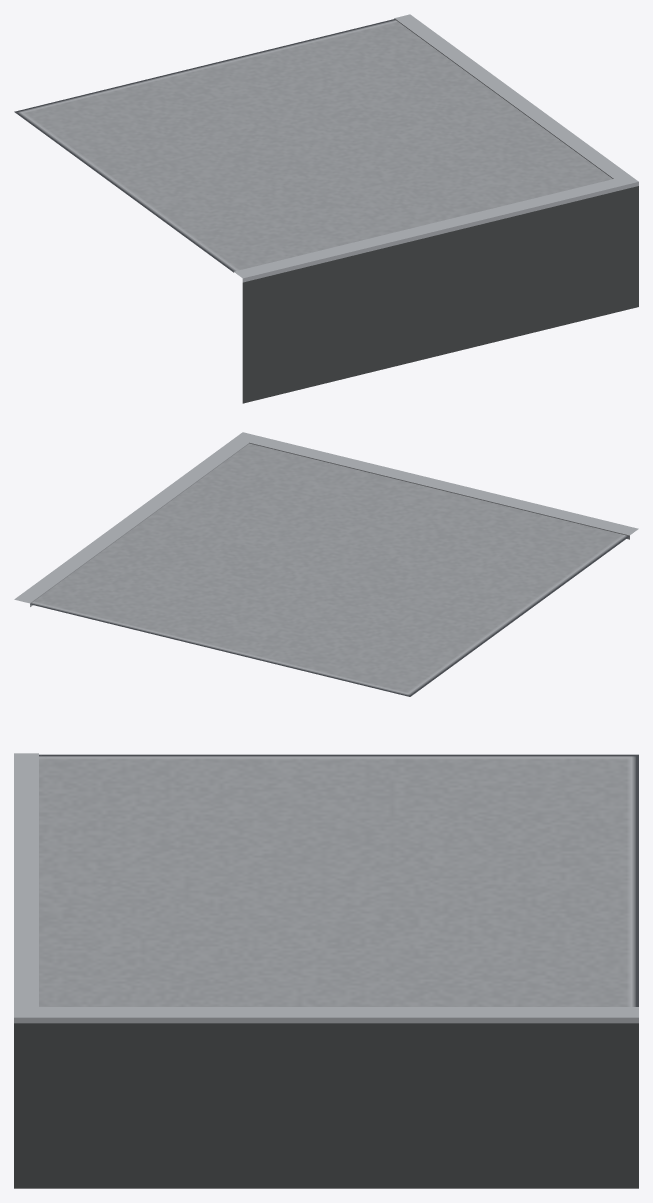
Rendered from Floor_Corner_1m.glb.
The picture shows the model from 3 angles, top to bottom: view 1: azimuth 30°, elevation 25°; view 2: azimuth 150°, elevation 25°; view 3: azimuth 270°, elevation 25°; orthographic projection. The views are drawn at different scales.
Parts seen in each view (by area): view 1: Floor_Corner_1m; view 2: Floor_Corner_1m; view 3: Floor_Corner_1m.
Part boxes in pixels (x1=…): Floor_Corner_1m: x1=14, y1=14, x2=638, y2=403; Floor_Corner_1m: x1=14, y1=432, x2=638, y2=696; Floor_Corner_1m: x1=14, y1=753, x2=638, y2=1188.
Size of what is drawn, in the model's own units: 1 by 0.302 by 1.
Materials: 3 (1 with a texture image).
